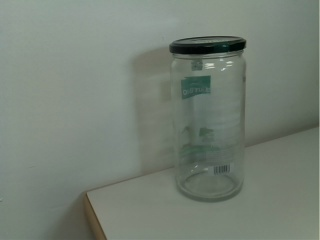pote cristal: (167, 35, 251, 204)
